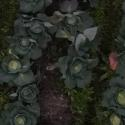cabbage: (28, 18, 44, 34), (115, 90, 125, 108), (20, 87, 33, 100), (9, 60, 22, 73), (14, 113, 27, 125), (108, 113, 120, 125), (18, 38, 32, 48)
